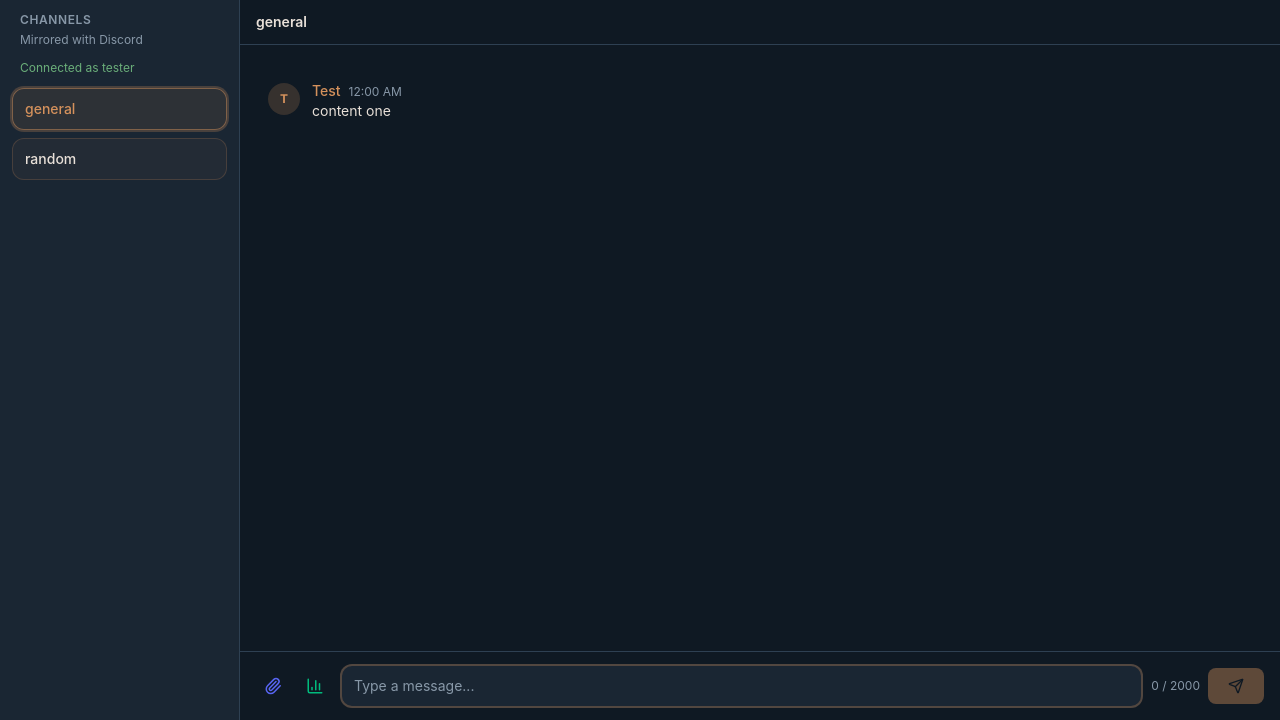
Test: CommunityPage loads (R361.4) › a live event kept from an earlier channel, run after the page moved to another, starts no load, and that channel’s load still writes (R390.3a)
The image size is (1280, 720).
Click the button "random" at [120, 159], box [12,138,227,180]
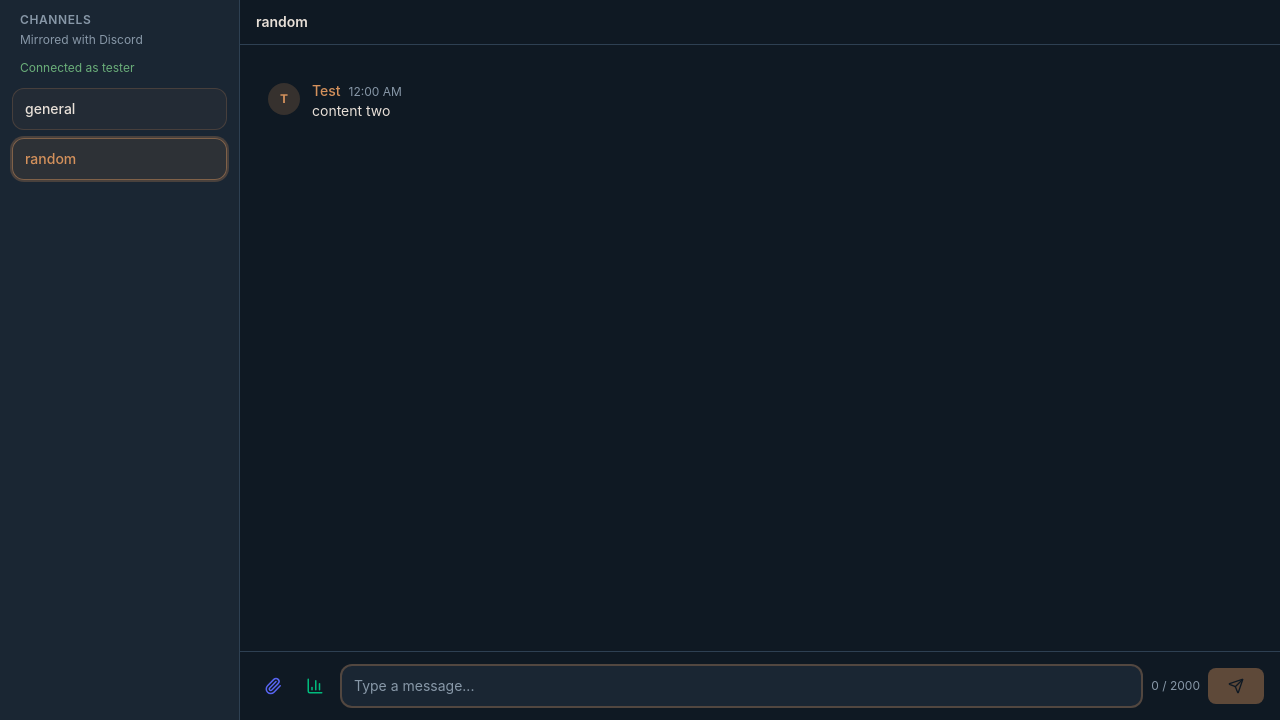
Now the text "content two" is shown, box [312,102,390,119]
